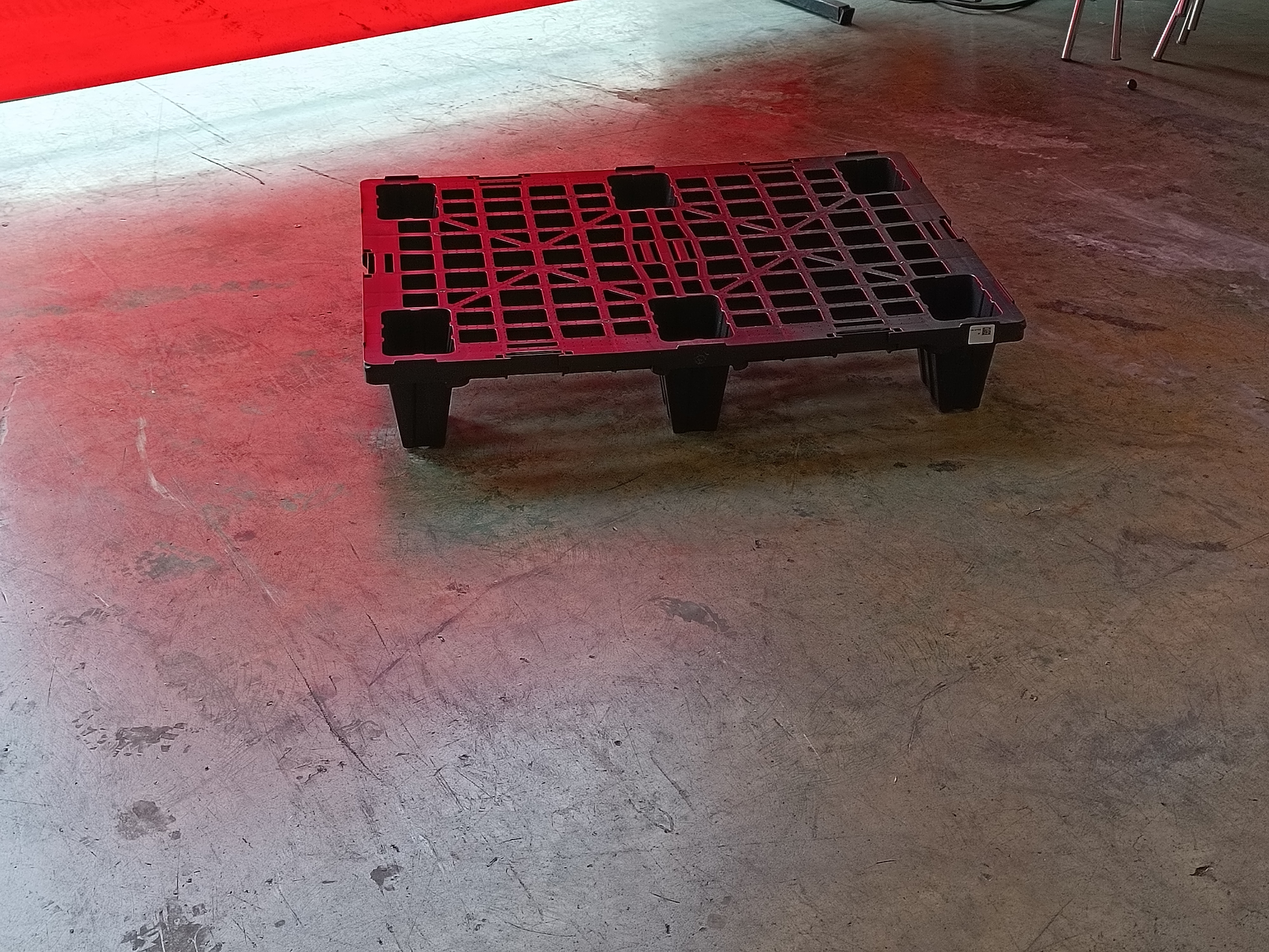block: (374, 374, 464, 459), (923, 330, 1000, 417), (660, 346, 732, 433)
front: (365, 320, 1033, 462)
hole pallet: (439, 372, 680, 435), (725, 350, 937, 411)
